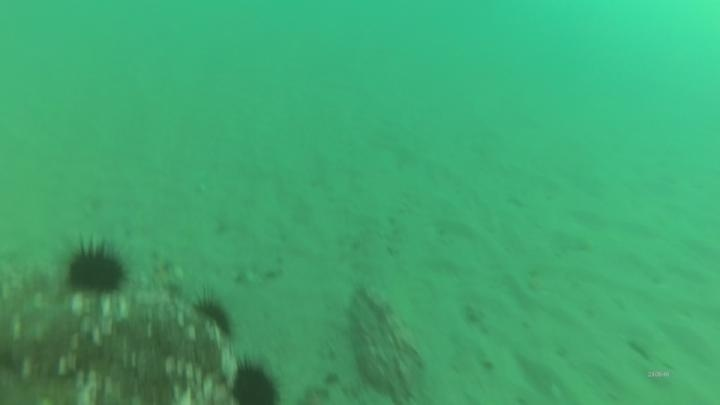echinus: (61, 236, 131, 300), (227, 357, 283, 405), (190, 291, 238, 341)
